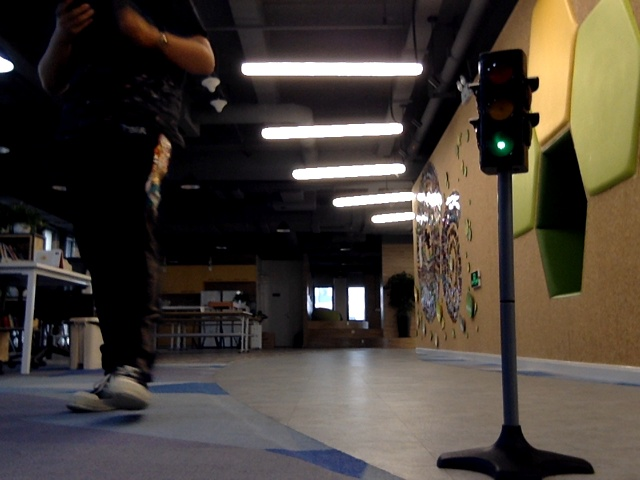green: (480, 58, 523, 167)
